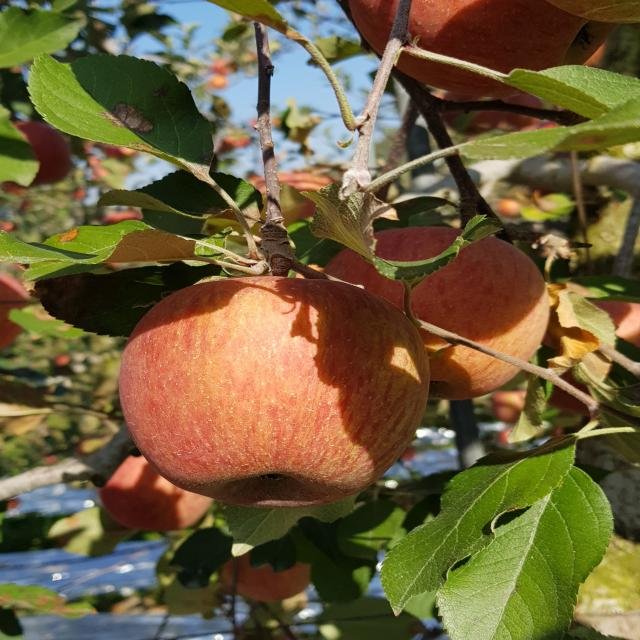fresh: (99, 262, 441, 516)
